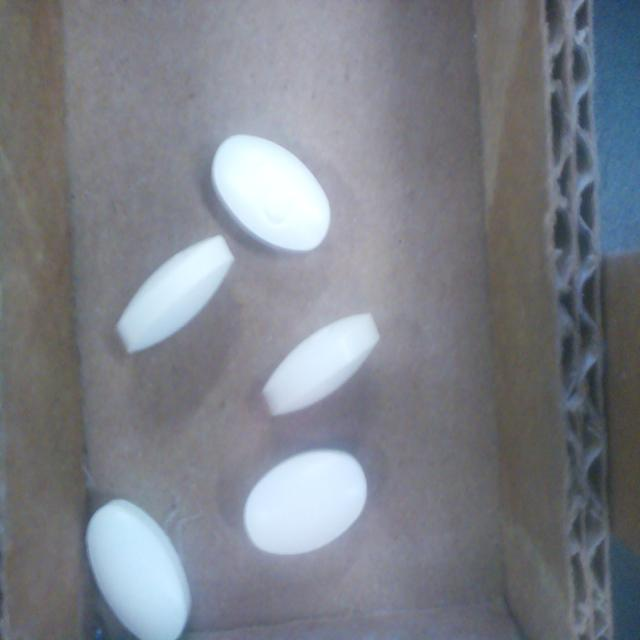pill: (86, 500, 191, 640), (116, 236, 234, 353), (212, 135, 330, 252), (244, 449, 367, 555), (263, 313, 380, 415)
